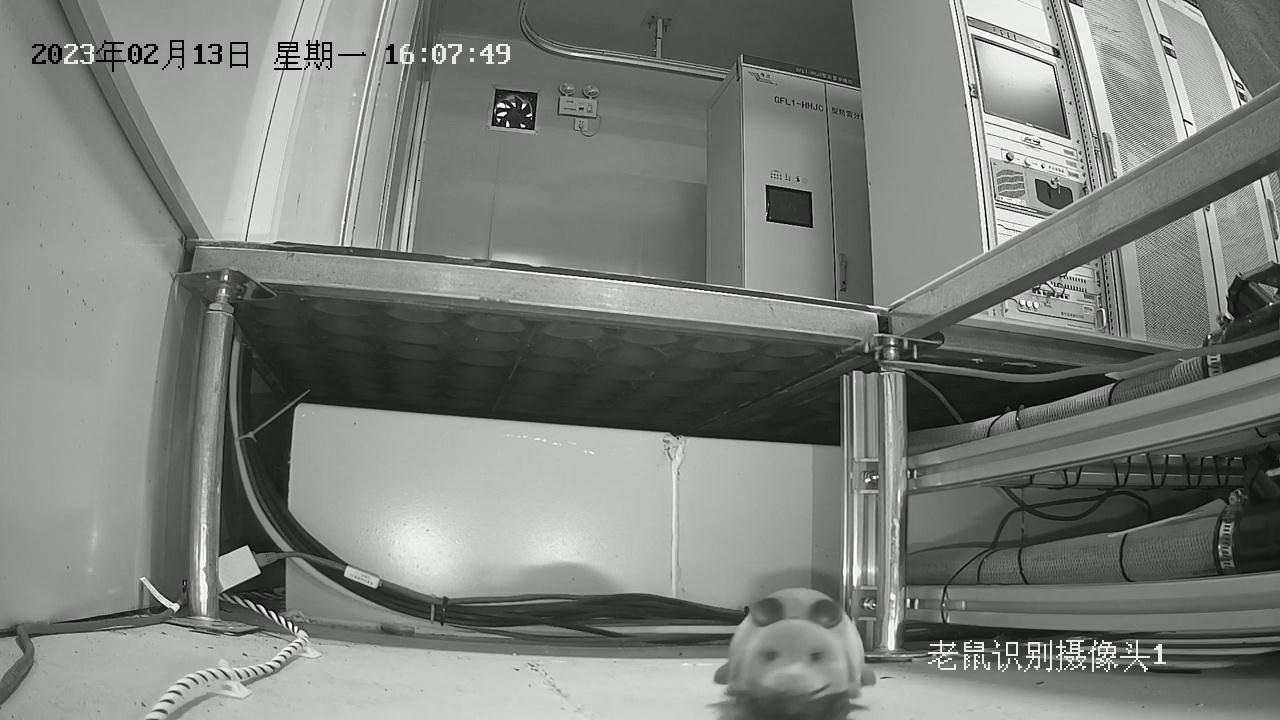rat: (715, 586, 878, 720)
